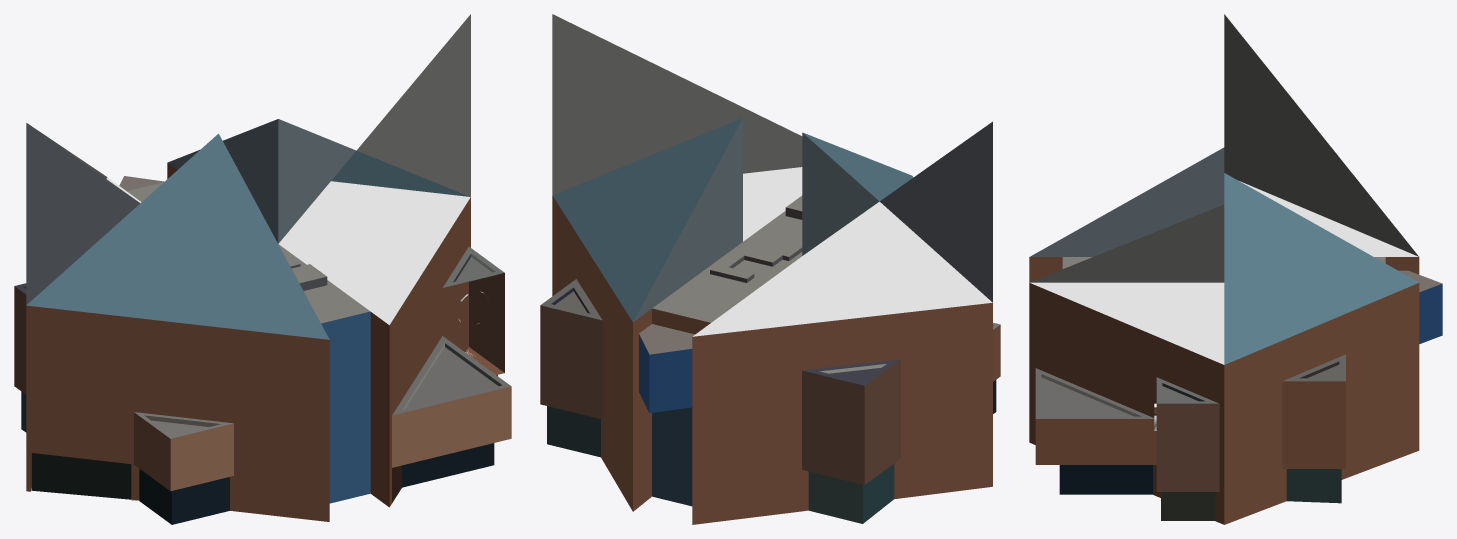
Rendered from tennessee-aquarium-river-journey.glb.
3 renders of one model, left to right at view 1: azimuth 30°, elevation 25°; view 2: azimuth 150°, elevation 25°; view 3: azimuth 270°, elevation 25°, orthographic. The views are drawn at different scales.
Parts seen in each view (by area): view 1: LOD0; view 2: LOD0; view 3: LOD0.
Part boxes in pixels (x1=…): LOD0: x1=14, y1=14, x2=511, y2=524; LOD0: x1=540, y1=14, x2=1000, y2=524; LOD0: x1=1029, y1=14, x2=1442, y2=524.
Size of what is drawn, in the model's own units: 62.08 by 49.95 by 56.95.
2 materials, 2 textured.
